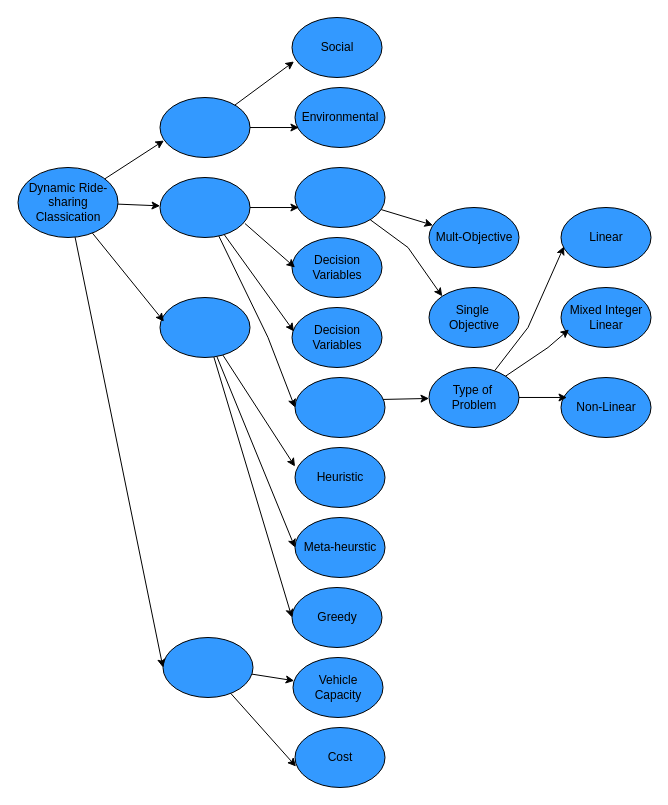
Image size: 668x805. Some labels were removed from this diagram. The shapes that lost their labels are listed below. From the top down, each one's centre as x and y in pixels, then its label:
At pixel 204 127: "Eco-Routing".
At pixel 204 207: "Mathematical Model".
At pixel 339 197: "Type".
At pixel 204 327: "Resolution Method".
At pixel 339 407: "Objective Function".
At pixel 207 667: "Parameters".
